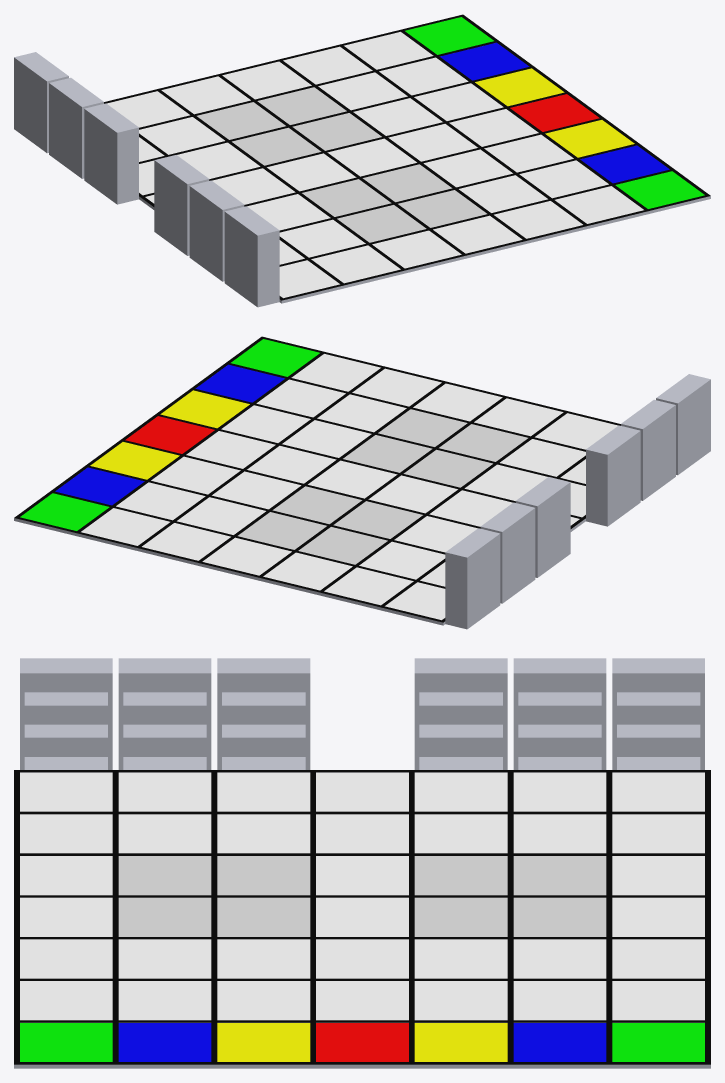
The picture shows the model from 3 angles, top to bottom: view 1: azimuth 30°, elevation 25°; view 2: azimuth 150°, elevation 25°; view 3: azimuth 270°, elevation 25°; orthographic projection. The views are drawn at different scales.
Parts seen in each view (by area): view 1: Pista; view 2: Pista; view 3: Pista.
Part boxes in pixels (x1,y1,x2,y2): Pista: (14, 14, 710, 307); Pista: (14, 336, 710, 629); Pista: (14, 658, 710, 1068).
Bounding box in the file's own units: 2.37 × 2.25 × 0.36.
